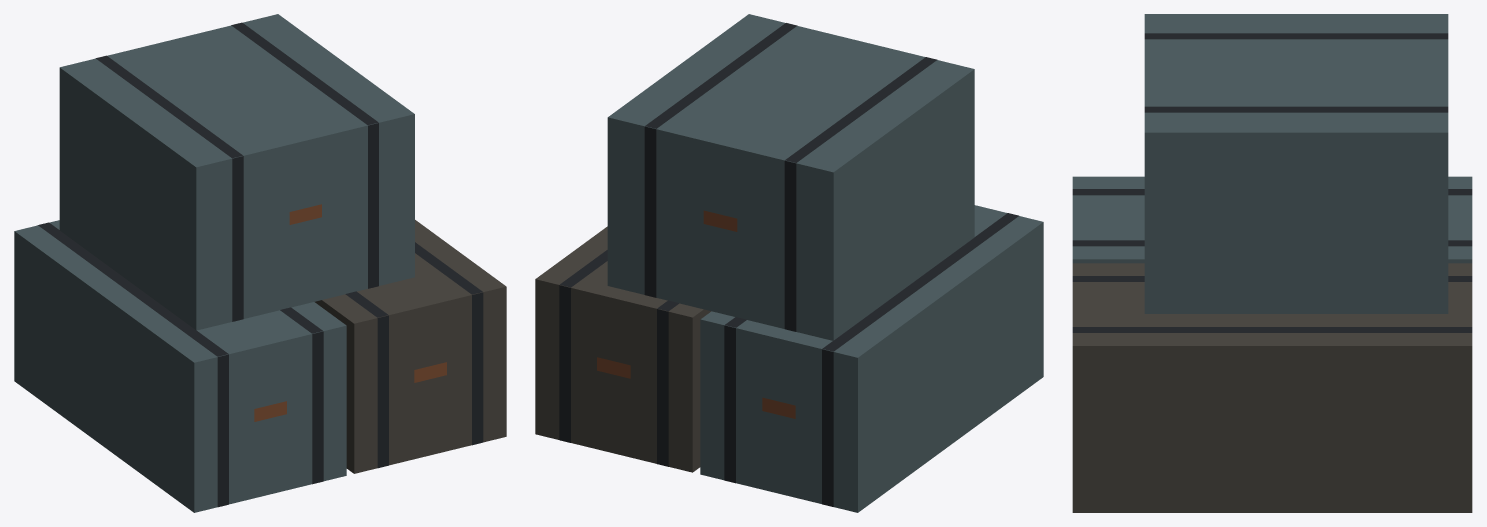
File: SM_Crate_Stack.fbx
3 views of the same model, side by side, from view 1: azimuth 30°, elevation 25°; view 2: azimuth 150°, elevation 25°; view 3: azimuth 270°, elevation 25° (orthographic). The views are drawn at different scales.
Parts seen in each view (by area): view 1: SM_Crate_Stack; view 2: SM_Crate_Stack; view 3: SM_Crate_Stack.
Part boxes in pixels (bbox=[...]): SM_Crate_Stack: bbox=[14, 14, 506, 512]; SM_Crate_Stack: bbox=[535, 14, 1043, 512]; SM_Crate_Stack: bbox=[1072, 14, 1472, 512].
Bounding box in the file's own units: 2.5 × 2.4 × 2.5.
